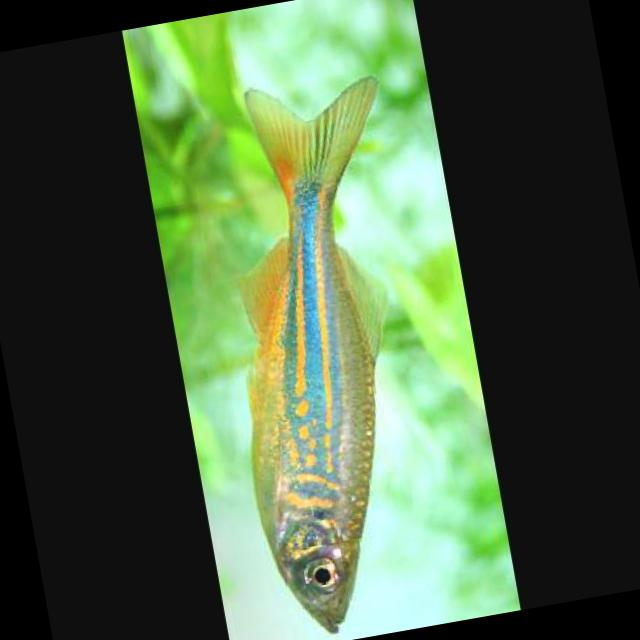ZebraFish: (178, 58, 471, 632)
